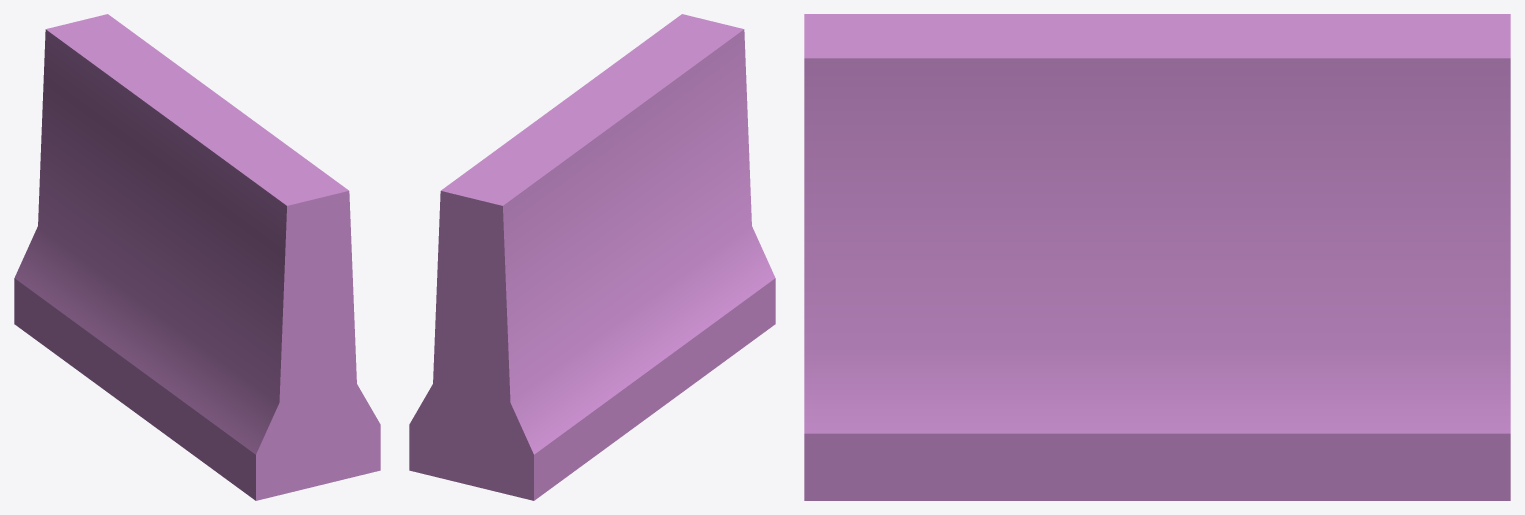
Rendered from ConcreteFence.fbx.
The picture shows the model from 3 angles, left to right: view 1: azimuth 30°, elevation 25°; view 2: azimuth 150°, elevation 25°; view 3: azimuth 270°, elevation 25°; orthographic projection. The views are drawn at different scales.
Visible parts, largest first — view 1: concreteFence; view 2: concreteFence; view 3: concreteFence.
Boxes of the visible parts, x1,y1,x2,y2 form: concreteFence: (14,14,380,500); concreteFence: (409,14,775,500); concreteFence: (804,14,1510,500).
Bounding box in the file's own units: 23.46 × 51.7 × 78.74.
